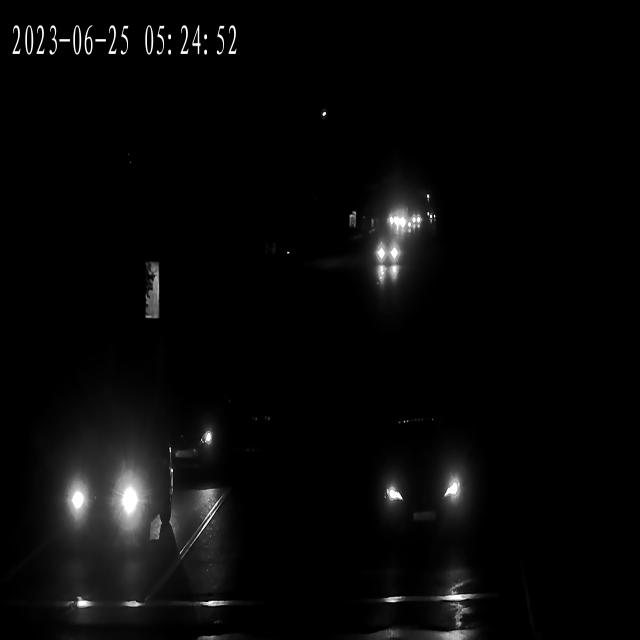Car: (62, 421, 173, 574), (380, 414, 468, 550), (155, 377, 233, 488), (374, 236, 402, 277), (394, 209, 408, 233), (390, 202, 400, 234), (412, 212, 422, 236)
